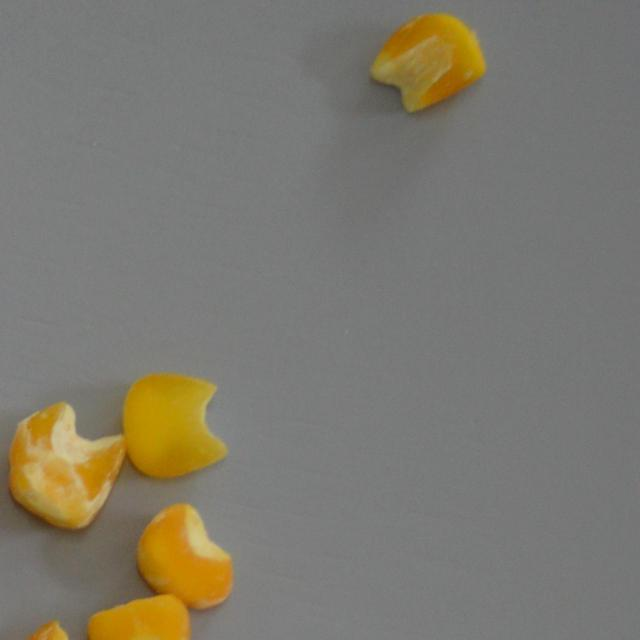no_canjicado: (122, 374, 228, 480), (85, 592, 190, 640)
pelicula: (8, 400, 125, 530), (367, 12, 486, 114), (135, 502, 233, 610), (0, 620, 100, 640)
